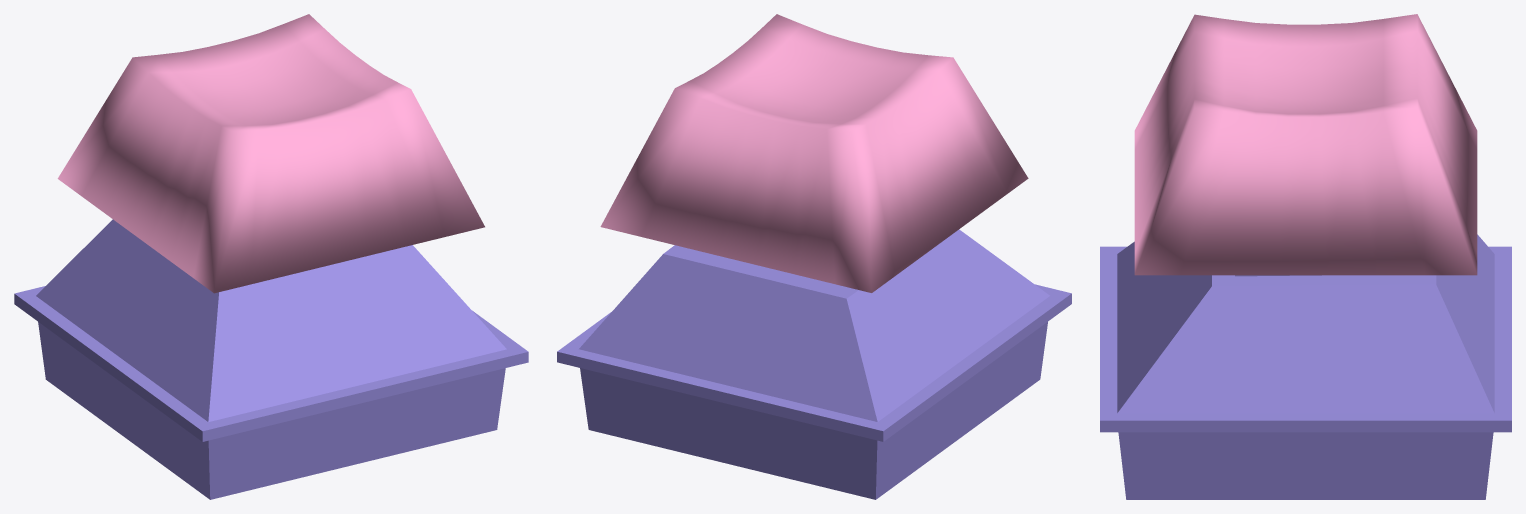
File: startswitch.glb
3 views of the same model, side by side, from view 1: azimuth 30°, elevation 25°; view 2: azimuth 150°, elevation 25°; view 3: azimuth 270°, elevation 25° (orthographic). The views are drawn at different scales.
Parts seen in each view (by area): view 1: Plane, Plane.001; view 2: Plane, Plane.001; view 3: Plane, Plane.001.
Boxes of the visible parts, box(x1,y1,x2,y2) form: Plane: box(14, 219, 528, 499); Plane.001: box(57, 14, 484, 293); Plane: box(557, 229, 1071, 499); Plane.001: box(600, 14, 1028, 292); Plane: box(1100, 234, 1511, 499); Plane.001: box(1134, 14, 1477, 275).
Size of the model in its own units: 2 by 1.95 by 2.
